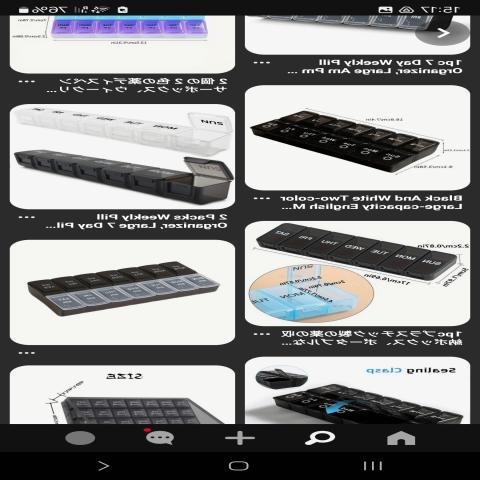PillBox: (19, 242, 222, 328), (244, 95, 438, 179), (244, 214, 468, 285), (6, 153, 235, 201), (266, 378, 466, 425)
